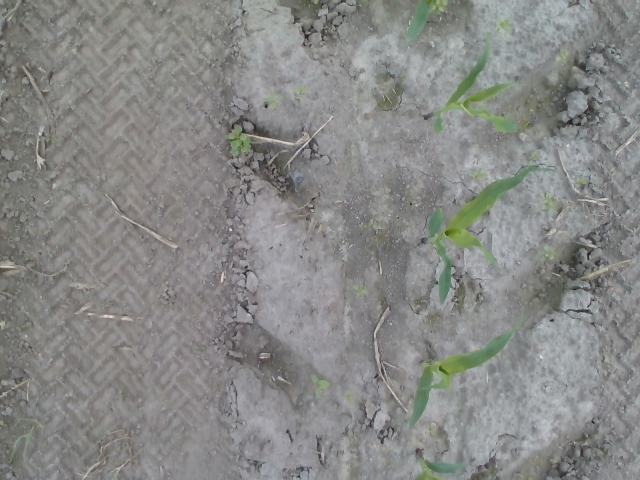Maize: (420, 162, 552, 314), (406, 325, 516, 434), (423, 36, 518, 136), (413, 447, 468, 480), (408, 0, 433, 41)
Weeds: (226, 126, 254, 154), (310, 374, 331, 400), (554, 48, 571, 64), (264, 95, 282, 110), (542, 198, 559, 212), (496, 18, 512, 32), (544, 244, 560, 258), (432, 0, 449, 13), (471, 169, 488, 182), (352, 283, 368, 296), (575, 176, 587, 186), (294, 84, 304, 96)
